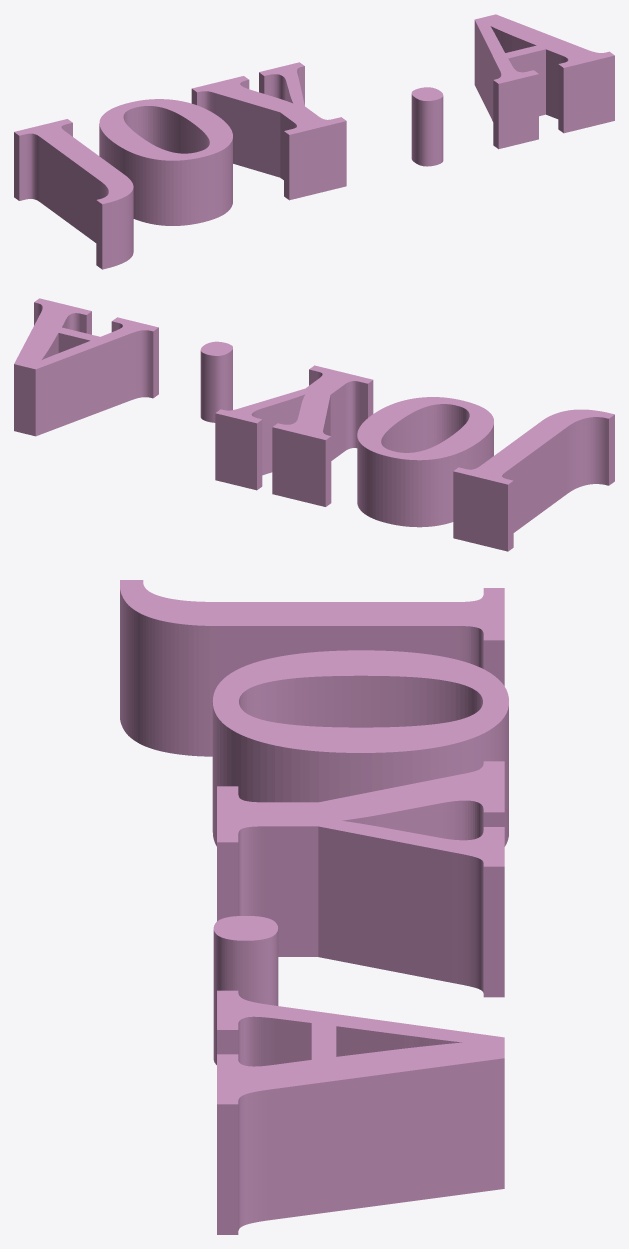
Rendered from Terrific Inari (1).glb.
3 views of the same model, one above another, from view 1: azimuth 30°, elevation 25°; view 2: azimuth 150°, elevation 25°; view 3: azimuth 270°, elevation 25° (orthographic). The views are drawn at different scales.
Parts seen in each view (by area): view 1: Mesh_Mesh_head_geo.001_lambert2SG.001; view 2: Mesh_Mesh_head_geo.001_lambert2SG.001; view 3: Mesh_Mesh_head_geo.001_lambert2SG.001.
Part boxes in pixels (x1,y1,x2,y2): Mesh_Mesh_head_geo.001_lambert2SG.001: (14, 14, 614, 269); Mesh_Mesh_head_geo.001_lambert2SG.001: (14, 298, 614, 551); Mesh_Mesh_head_geo.001_lambert2SG.001: (120, 580, 508, 1234).
Bounding box in the file's own units: 0.086 × 0.01 × 0.027.
